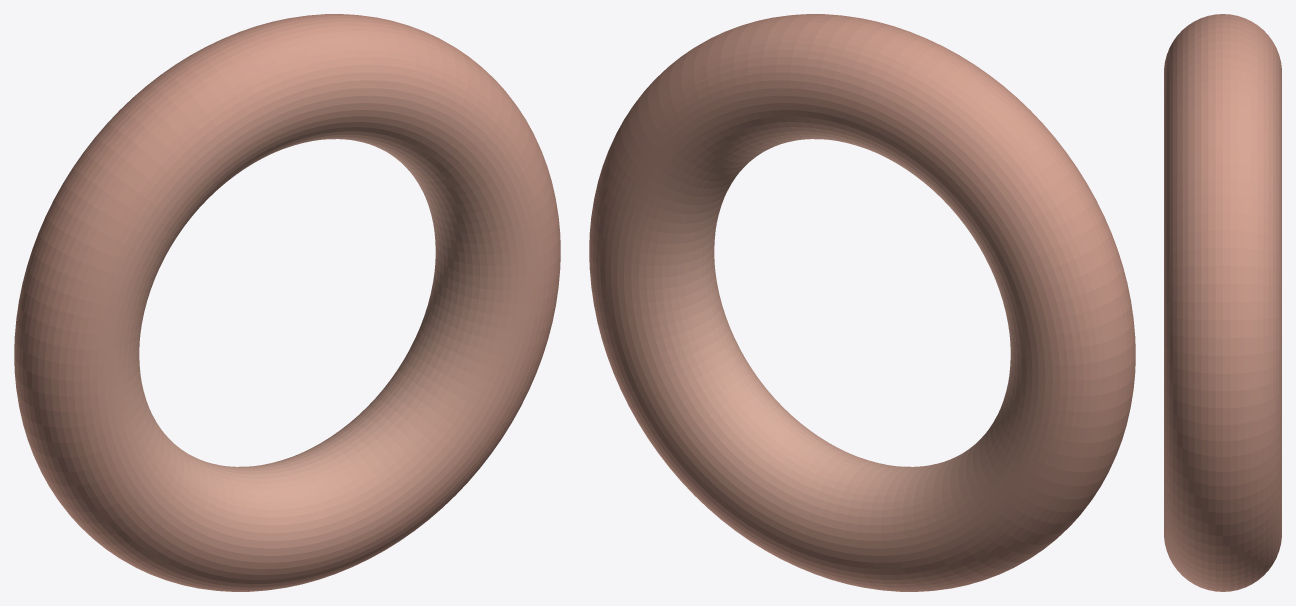
3 views of the same model, side by side, from view 1: azimuth 30°, elevation 25°; view 2: azimuth 150°, elevation 25°; view 3: azimuth 270°, elevation 25° (orthographic). The views are drawn at different scales.
Parts seen in each view (by area): view 1: world; view 2: world; view 3: world.
Boxes of the visible parts, x1,y1,x2,y2 form: world: (14,14,560,591); world: (589,14,1135,591); world: (1164,14,1281,591).
Bounding box in the file's own units: 17.6 × 17.6 × 3.59.
